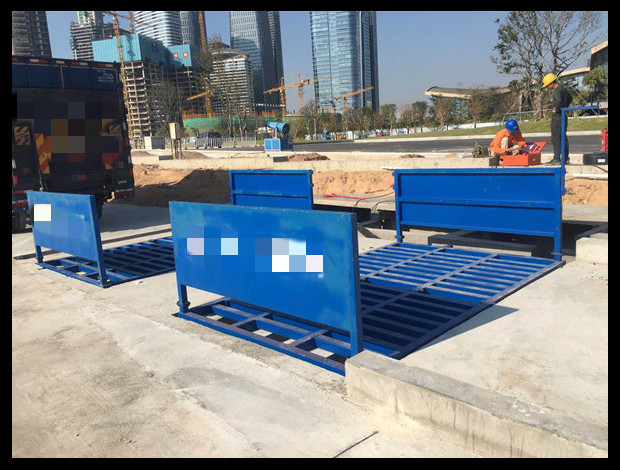helmet: (541, 73, 558, 88), (505, 119, 519, 132)
person: (541, 72, 573, 166), (489, 119, 527, 155)
